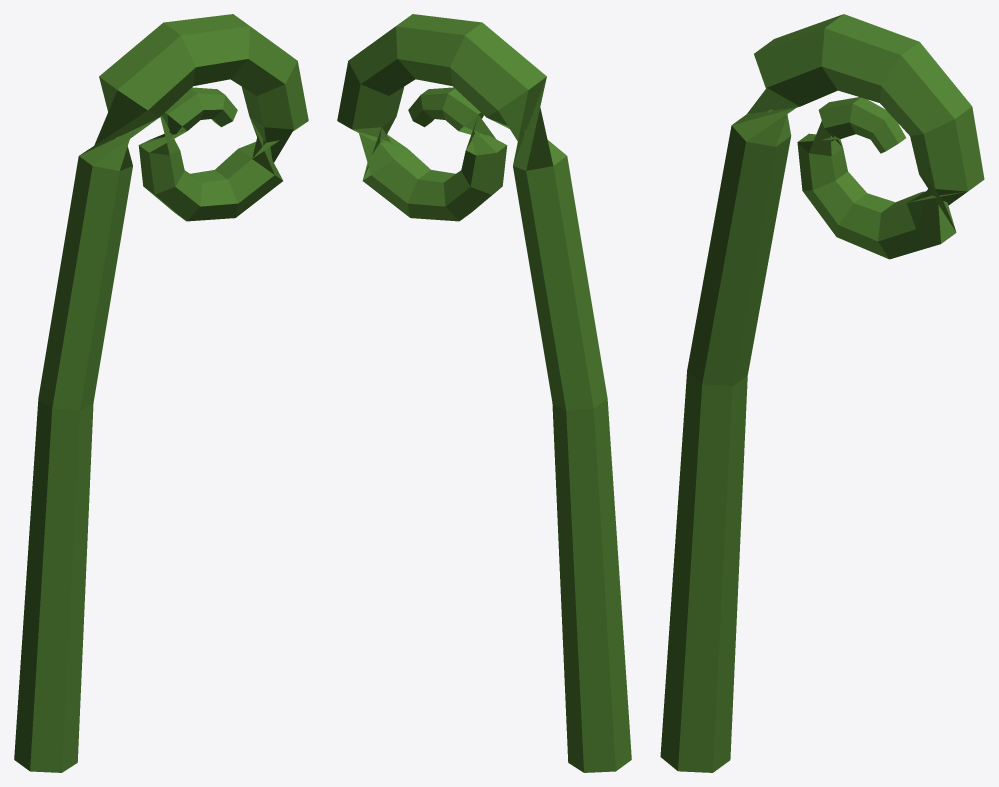
The model's file is fern_fiddlehead.fbx.
3 renders of one model, left to right at view 1: azimuth 30°, elevation 25°; view 2: azimuth 150°, elevation 25°; view 3: azimuth 330°, elevation 25°, orthographic. The views are drawn at different scales.
Visible parts, largest first — view 1: fern_fiddlehead; view 2: fern_fiddlehead; view 3: fern_fiddlehead.
Boxes of the visible parts, x1=… form: fern_fiddlehead: x1=14, y1=14, x2=308, y2=772; fern_fiddlehead: x1=337, y1=14, x2=631, y2=772; fern_fiddlehead: x1=660, y1=14, x2=984, y2=772.
Bounding box in the file's own units: 34.92 × 84 × 8.01.
Materials: 1 (1 with a texture image).
